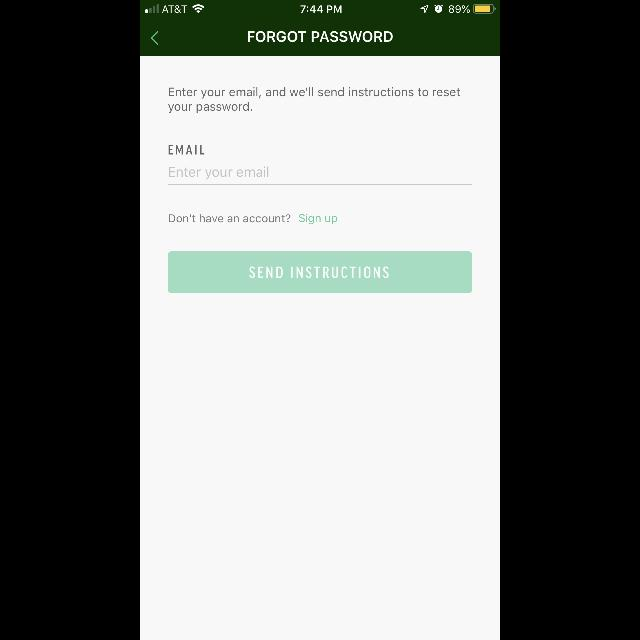icon: (152, 31, 158, 45)
input: (168, 167, 472, 186)
text: (168, 87, 460, 113), (169, 213, 337, 224), (248, 32, 392, 42), (169, 167, 269, 180), (169, 145, 205, 155)
textbutton: (168, 251, 472, 293)
uppertaskbar: (140, 0, 500, 14)
